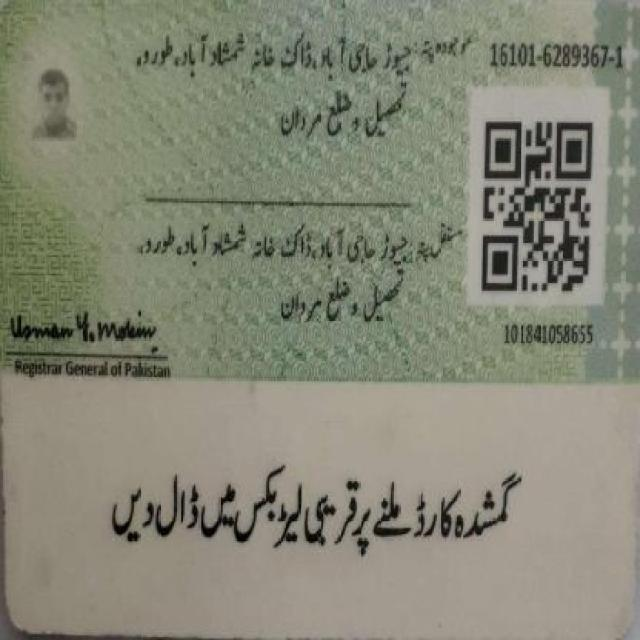Back: (6, 5, 632, 612)
